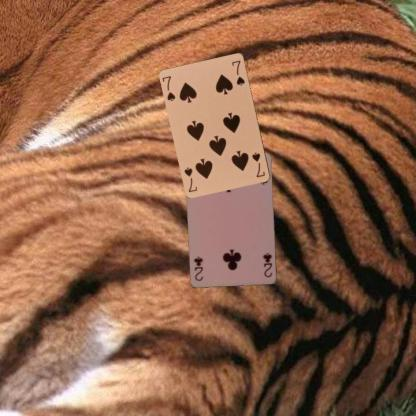2c: (261, 250, 273, 279)
7s: (160, 73, 177, 103), (250, 150, 266, 178)
